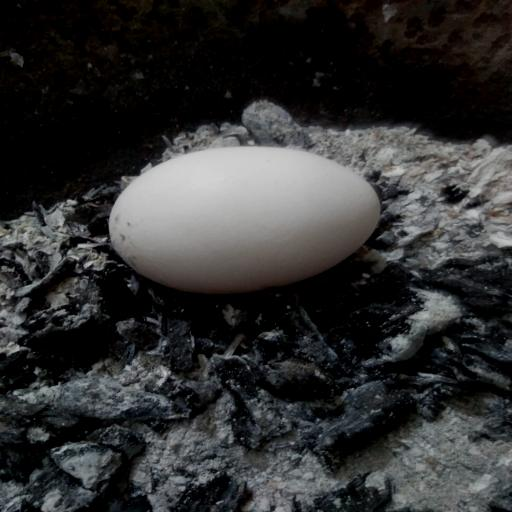telur: (105, 140, 387, 300)
